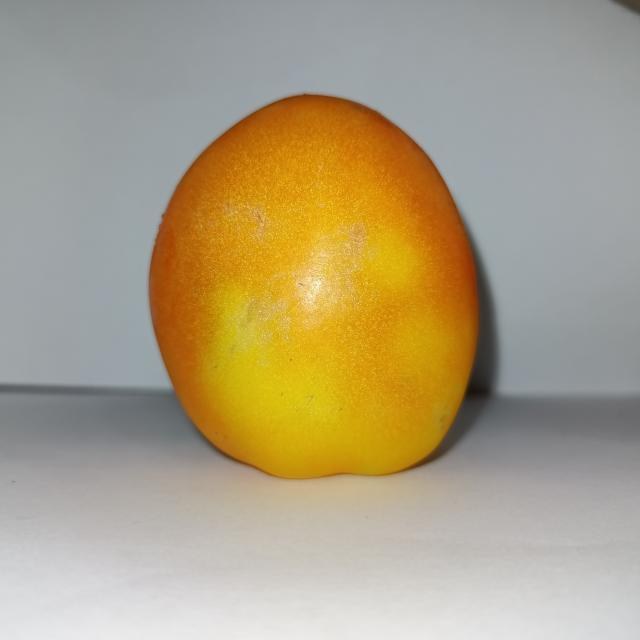Red: (146, 91, 482, 480)
